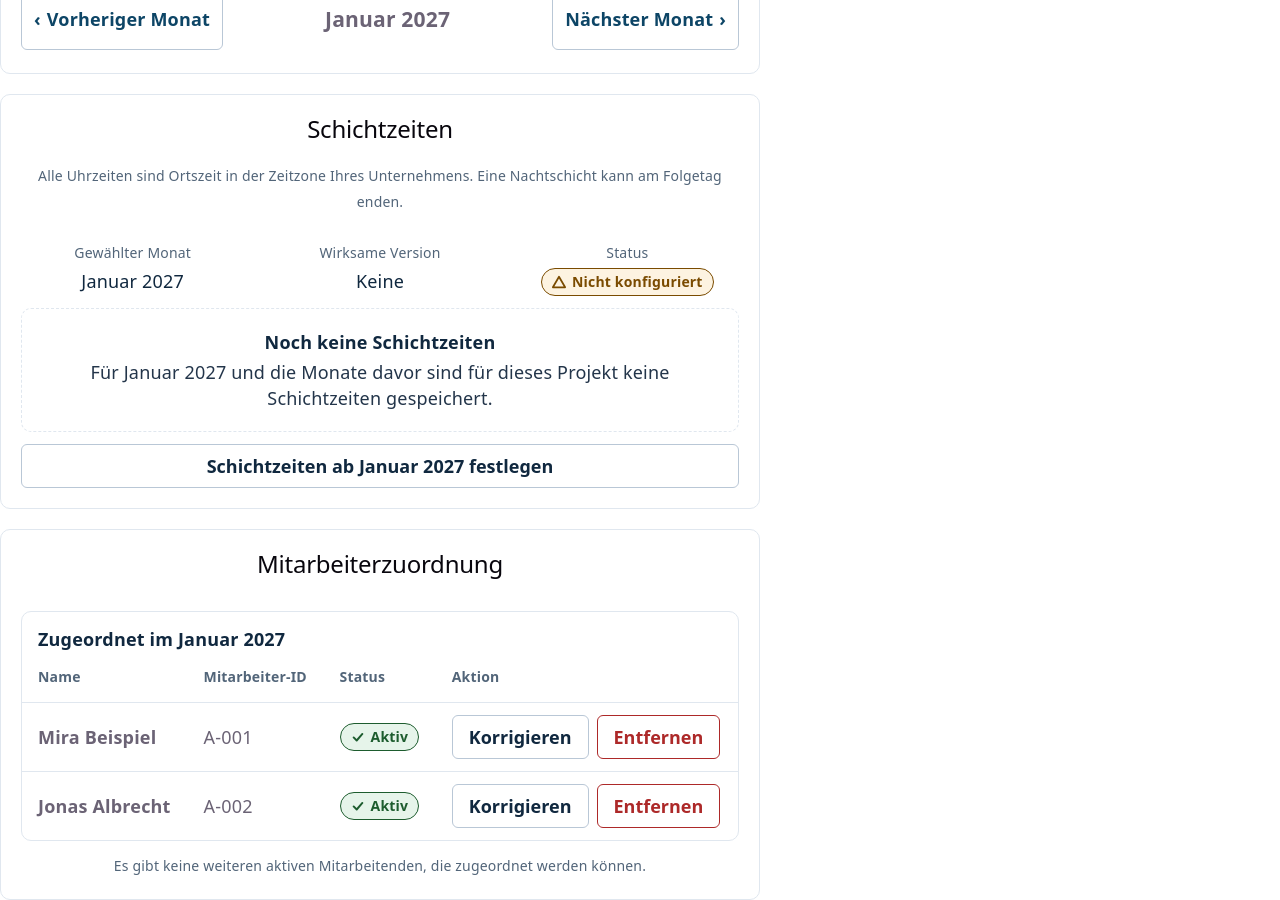
Scenario: #73 — inline confirmation bound to the displayed row › names person, project and month, says what does NOT happen, takes the focus and blocks other actions
(page scrolled)
Click the button with aria-label "Zuordnung von Mira Beispiel entfernen" at x=658, y=737, box [596,715,720,759]
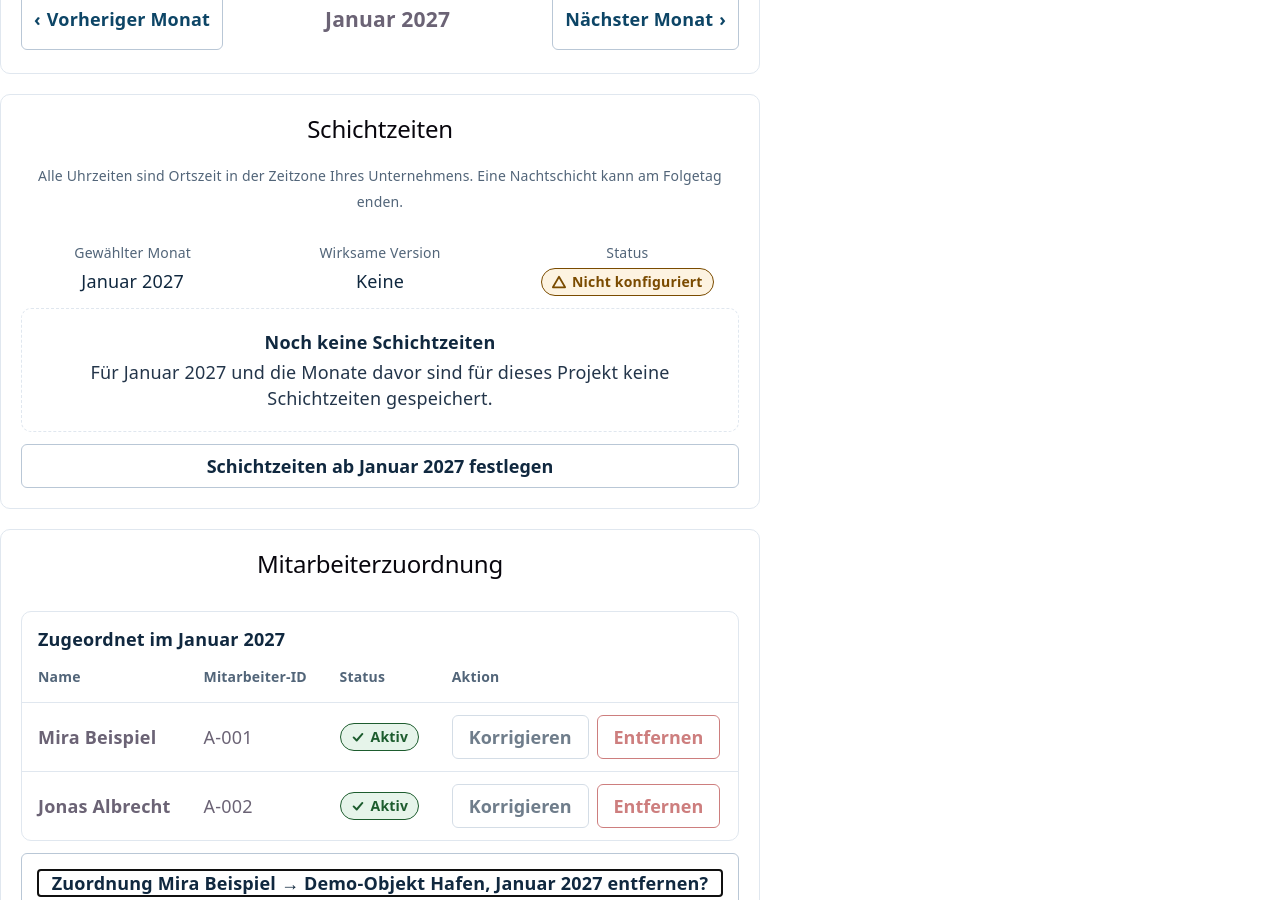
expect the heading "Zuordnung Mira Beispiel → Demo-Objekt Hafen, Januar 2027 entfernen?" is shown: met, box [38,870,722,896]
